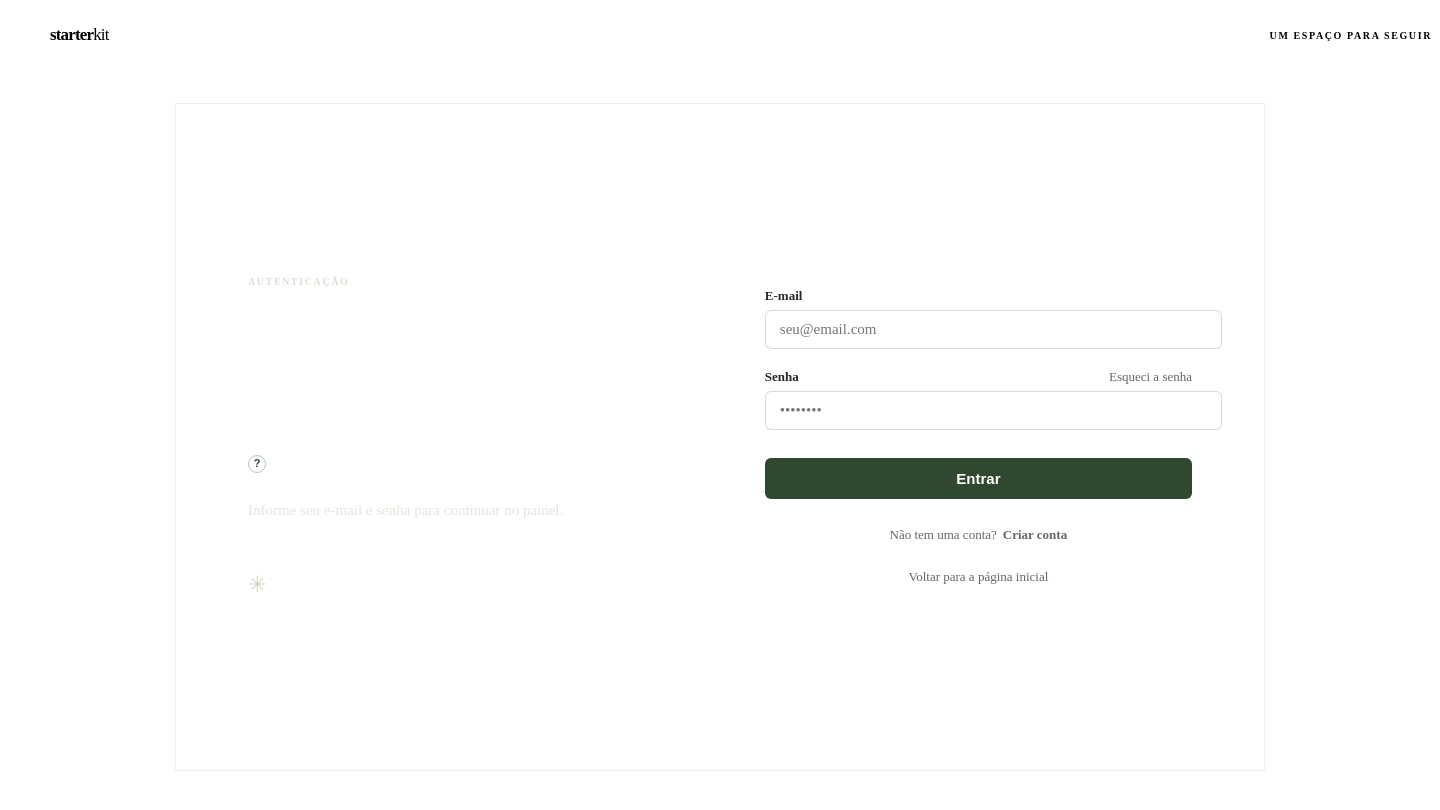
LoginPage.vue › displays error message on 403 forbidden (account blocked)
Step 1. Type "maria@example.com" into the field labelled "E-mail" → (993, 330), box left=765, top=310, right=1222, bottom=349
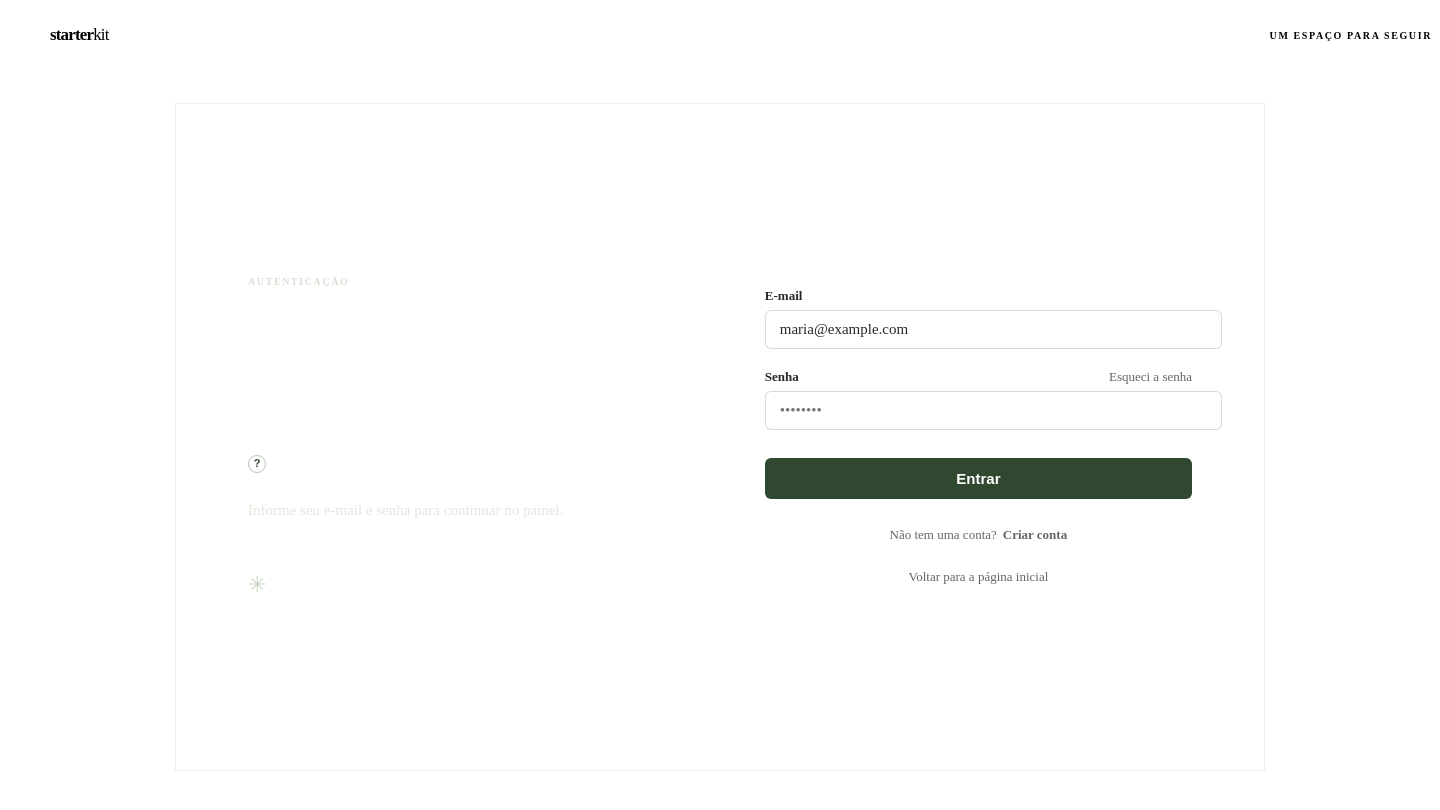
Step 2. Type "blocked" into the password field labelled "Senha" → (993, 410), box left=765, top=391, right=1222, bottom=430
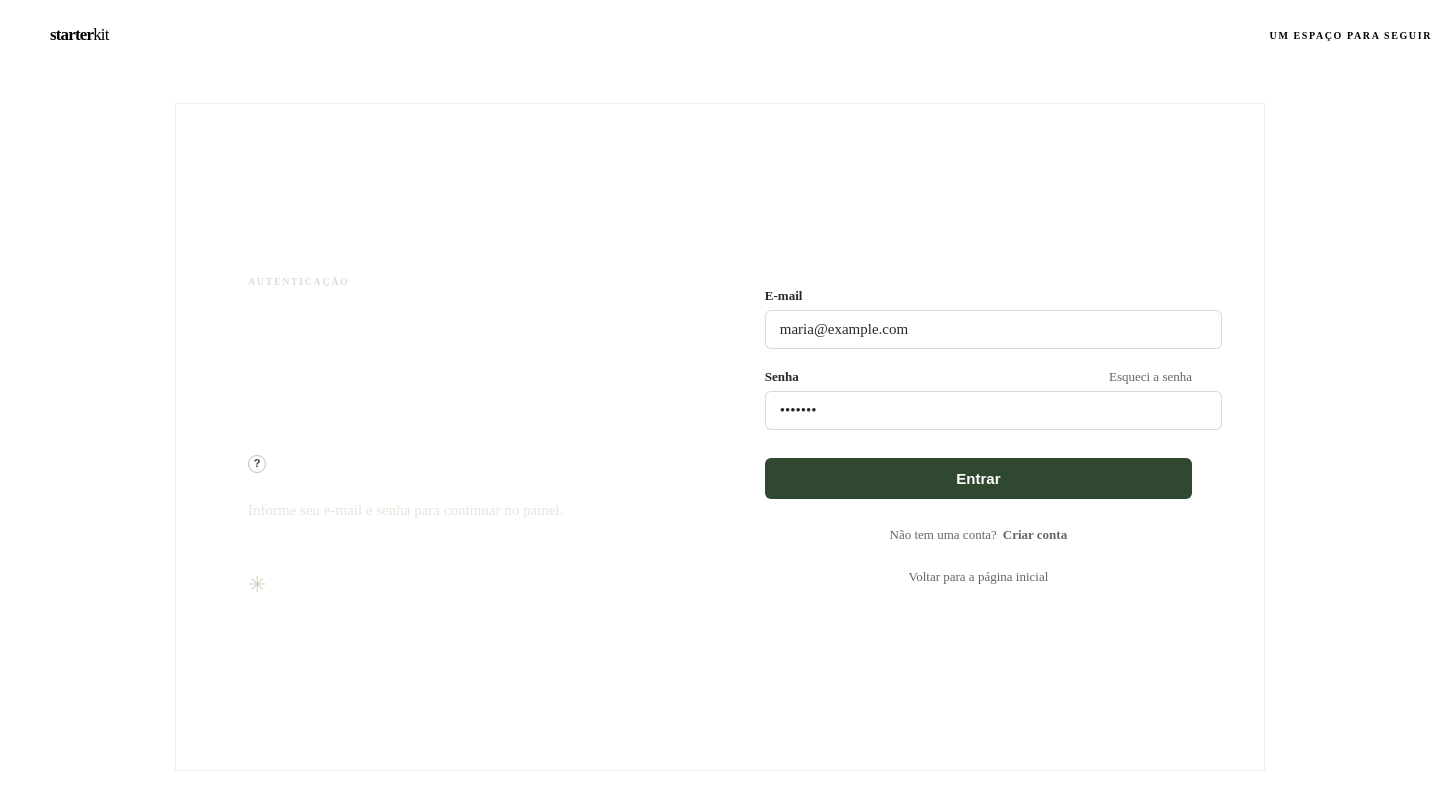
Step 3. Submit the form, box left=765, top=288, right=1192, bottom=585
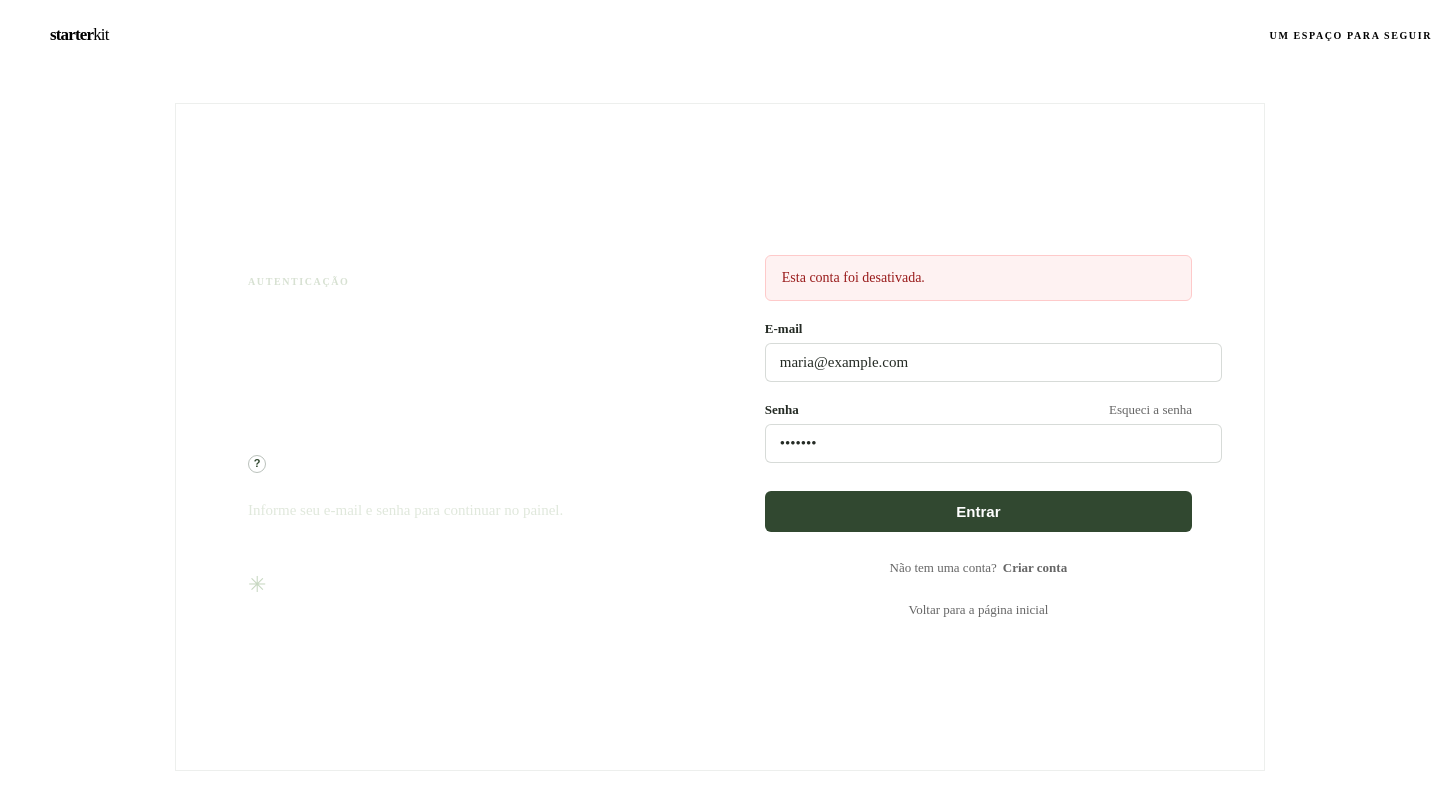
Expected: the message "Esta conta foi desativada." is shown, left=765, top=255, right=1192, bottom=301
